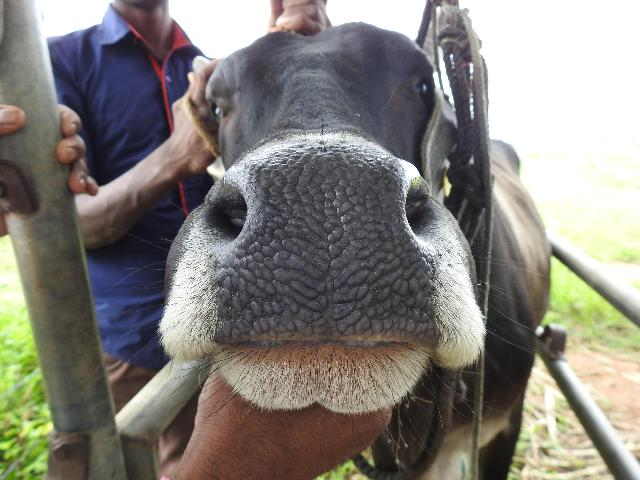Muzzle: (228, 164, 422, 346)
